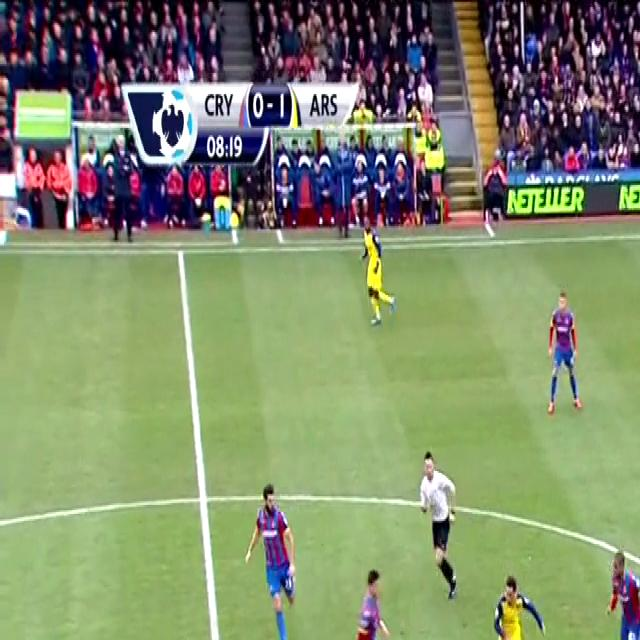referee: (409, 452, 469, 611)
soccer-player: (239, 476, 310, 640), (533, 281, 597, 422), (358, 221, 406, 336), (335, 569, 409, 640), (487, 570, 557, 640), (594, 540, 640, 640)
